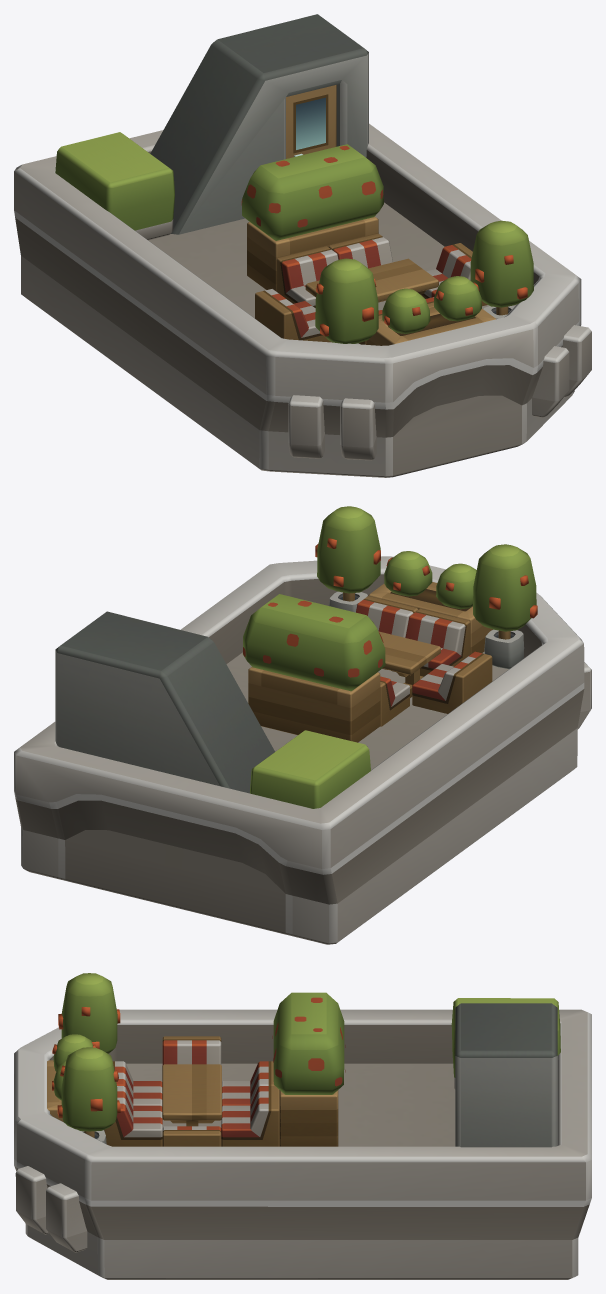
Rendered from appartment_type4_roof_type1_deco.fbx.
3 views of the same model, one above another, from view 1: azimuth 30°, elevation 25°; view 2: azimuth 150°, elevation 25°; view 3: azimuth 270°, elevation 25° (orthographic). The views are drawn at different scales.
Visible parts, largest first — view 1: appartment_type4_roof_type1_deco, door_wood_rooftop_doorway; view 2: appartment_type4_roof_type1_deco; view 3: appartment_type4_roof_type1_deco.
Part boxes in pixels (x1,y1,x2,y2): appartment_type4_roof_type1_deco: (14,14,591,477); door_wood_rooftop_doorway: (286,85,336,158); appartment_type4_roof_type1_deco: (14,506,591,944); appartment_type4_roof_type1_deco: (14,973,591,1279).
Size of the model in its own units: 610 by 410 by 988.
